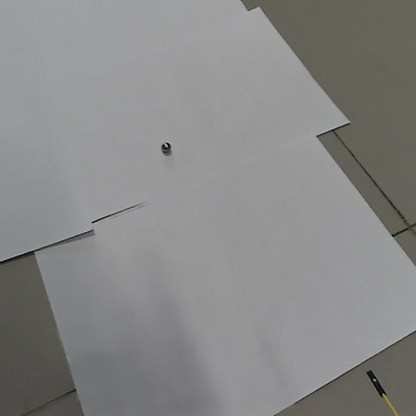ironball: (159, 138, 171, 153)
